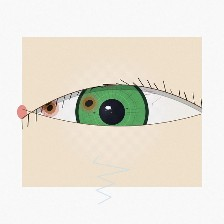foreign_body_visible: (68, 87, 110, 120)
